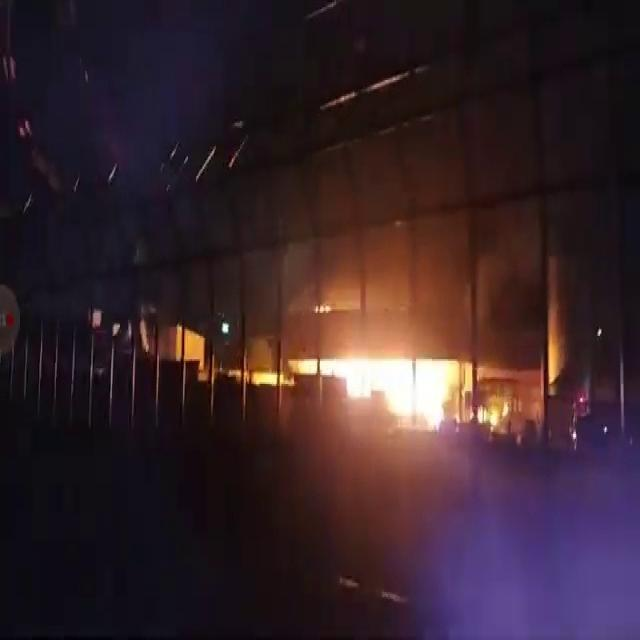Fire: (325, 364, 450, 434)
